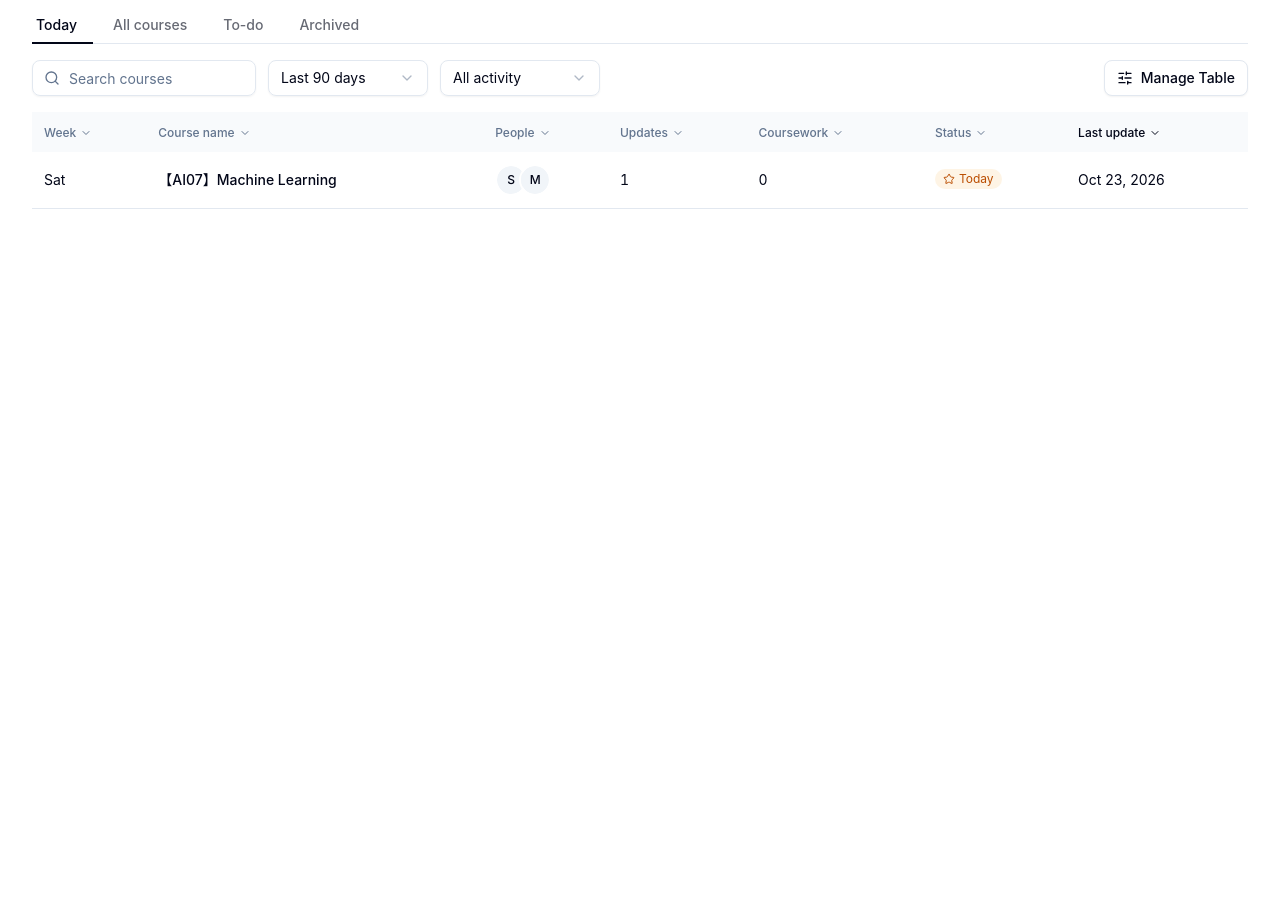
CoursesListPage › opens the details sheet from the title and hides a column from Manage Table
Click the tab "All courses" at (150, 26), box [97,8,203,44]
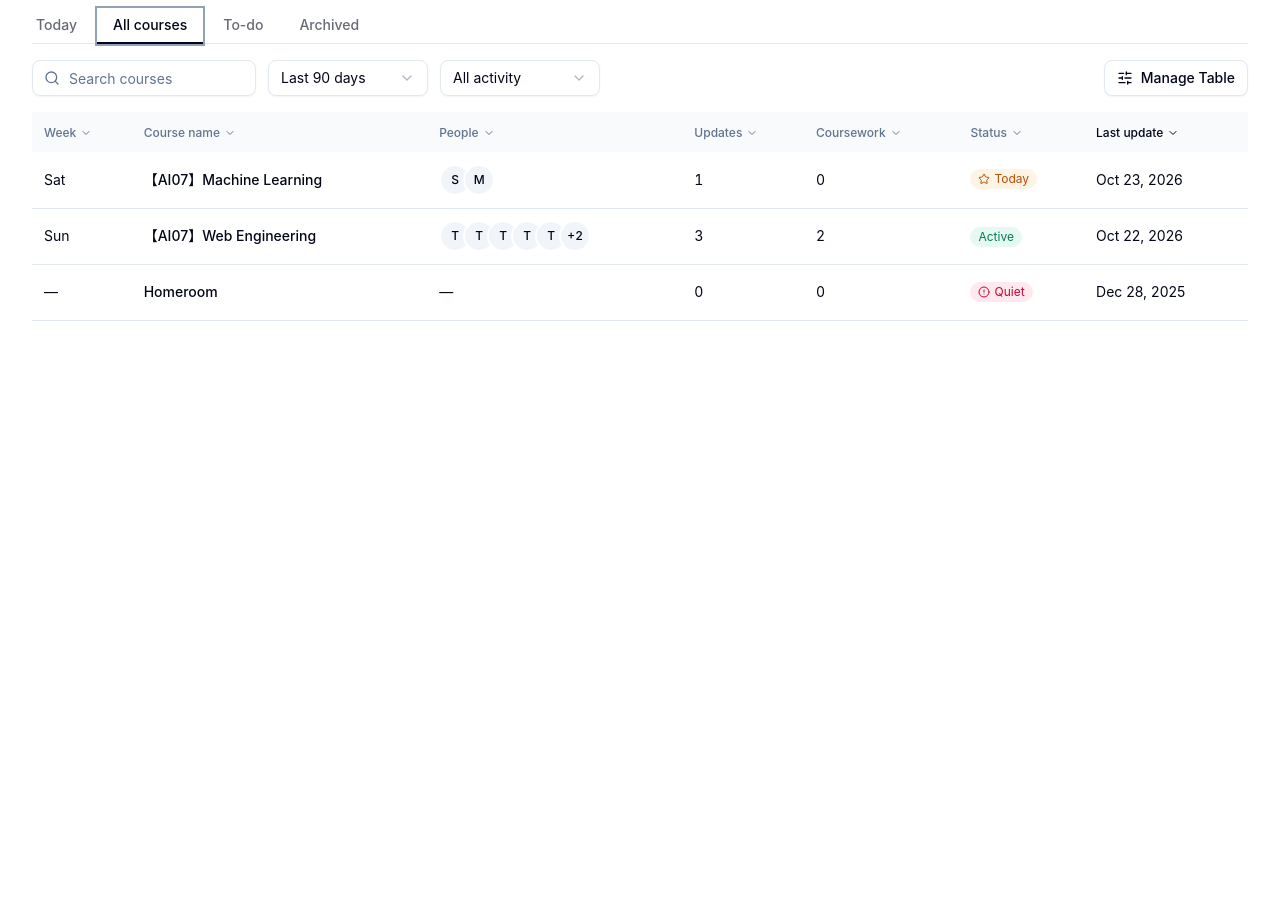
Now the button "【AI07】Web Engineering" is shown, box [144,226,316,246]
Click the button "Manage Table" at (1176, 78), box [1104,60,1248,96]
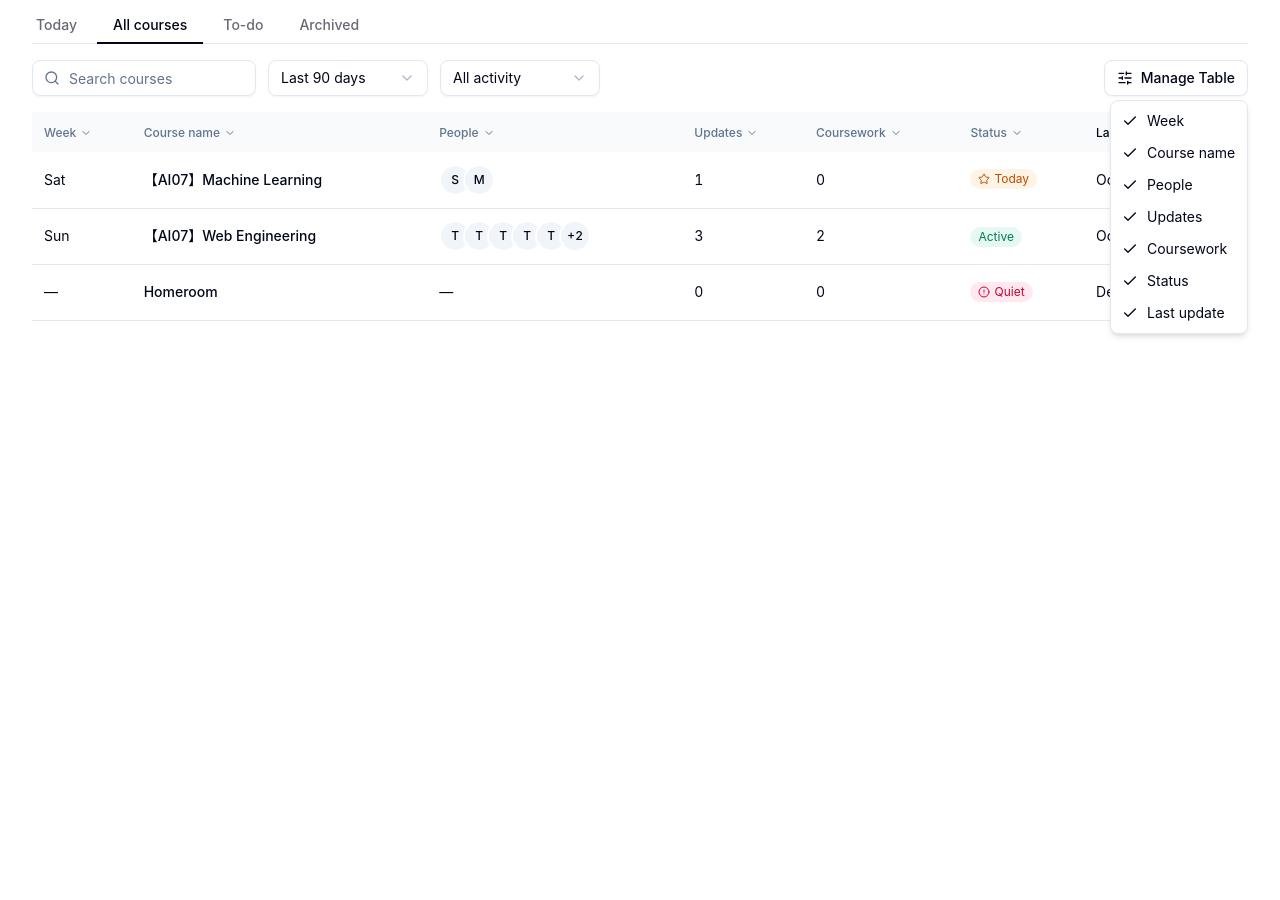
Click the menu item "Week" at (1153, 120), box [1122,112,1184,129]
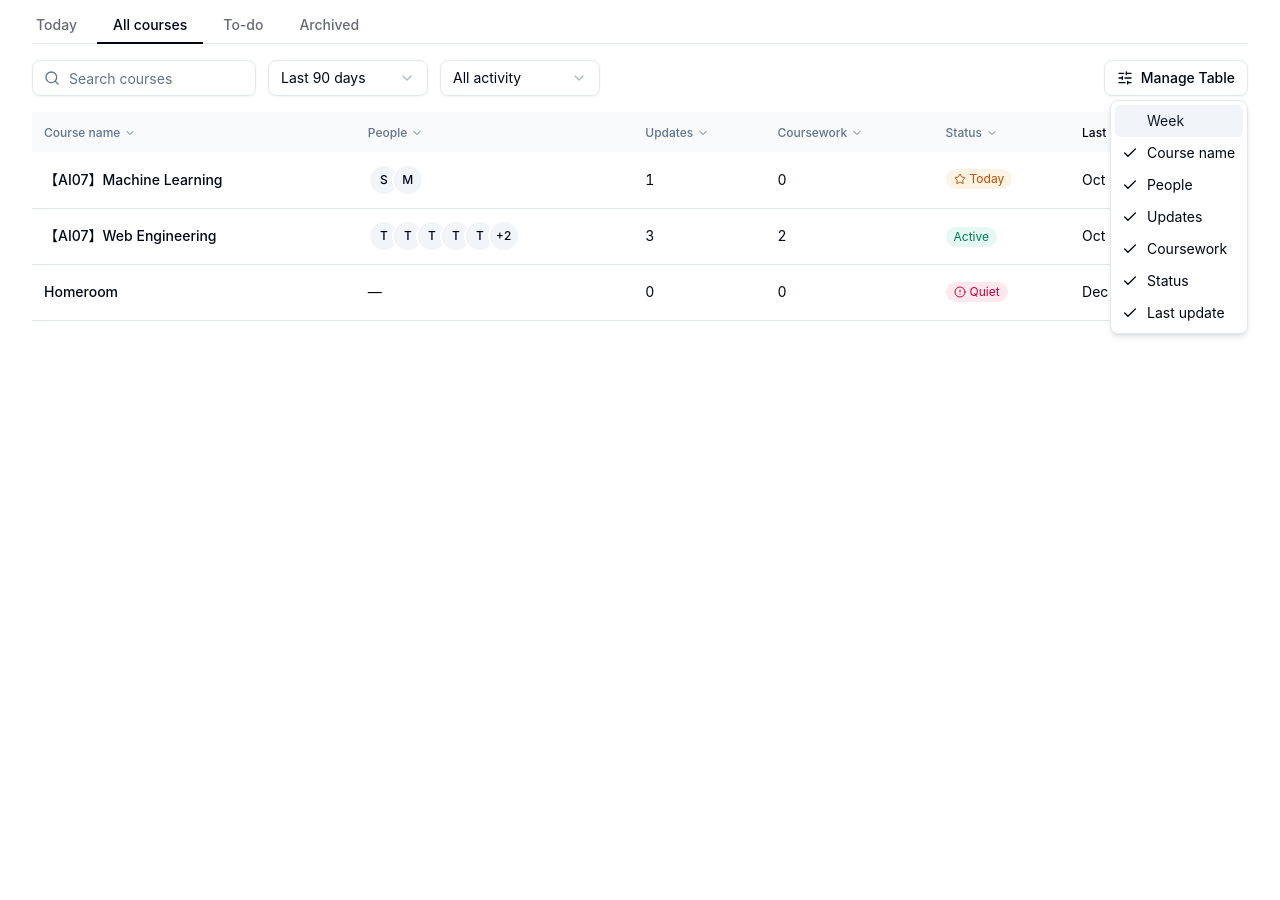
Press Escape
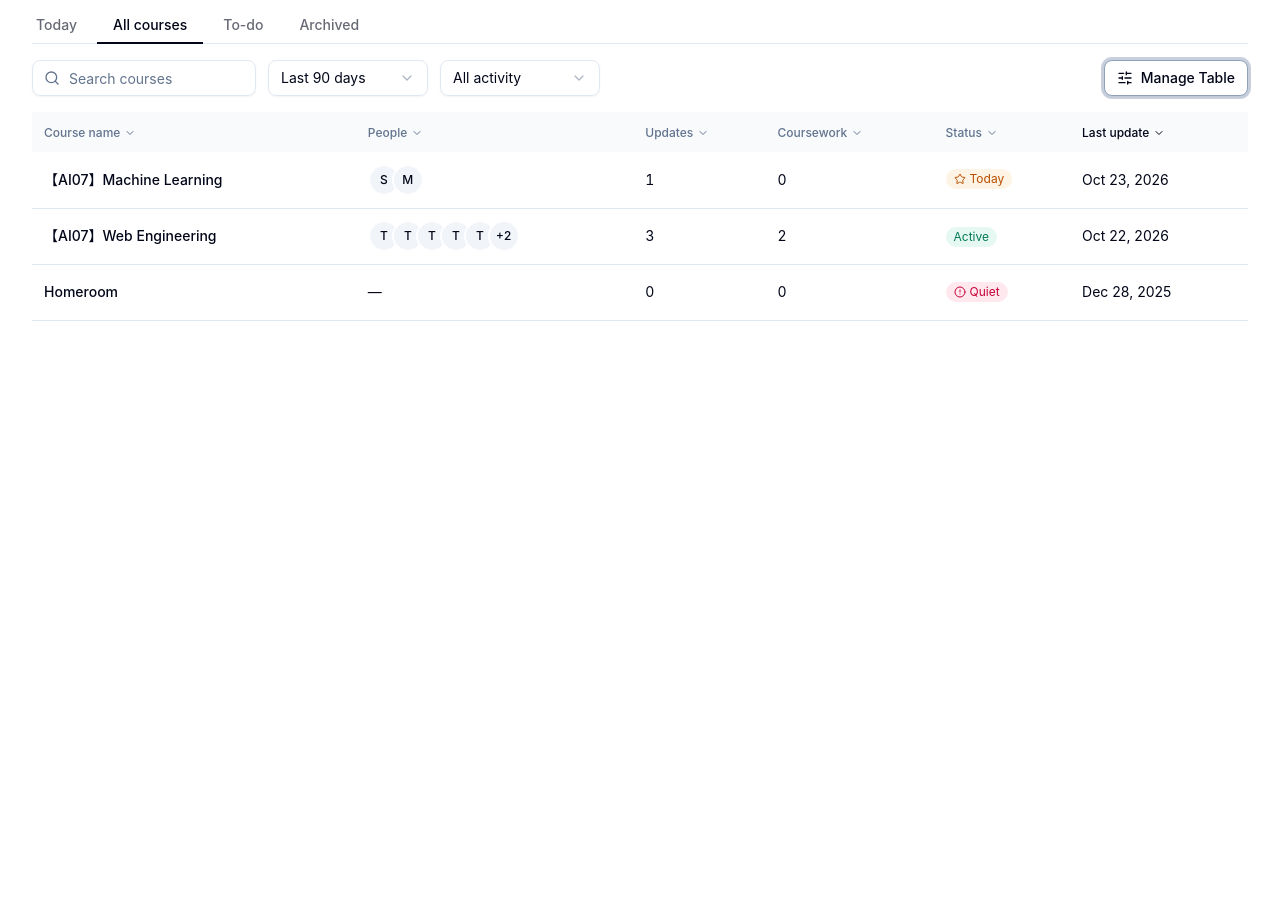
Now the menu item no longer shows "Week"
Click the button "【AI07】Web Engineering" at (130, 236), box [44,226,216,246]
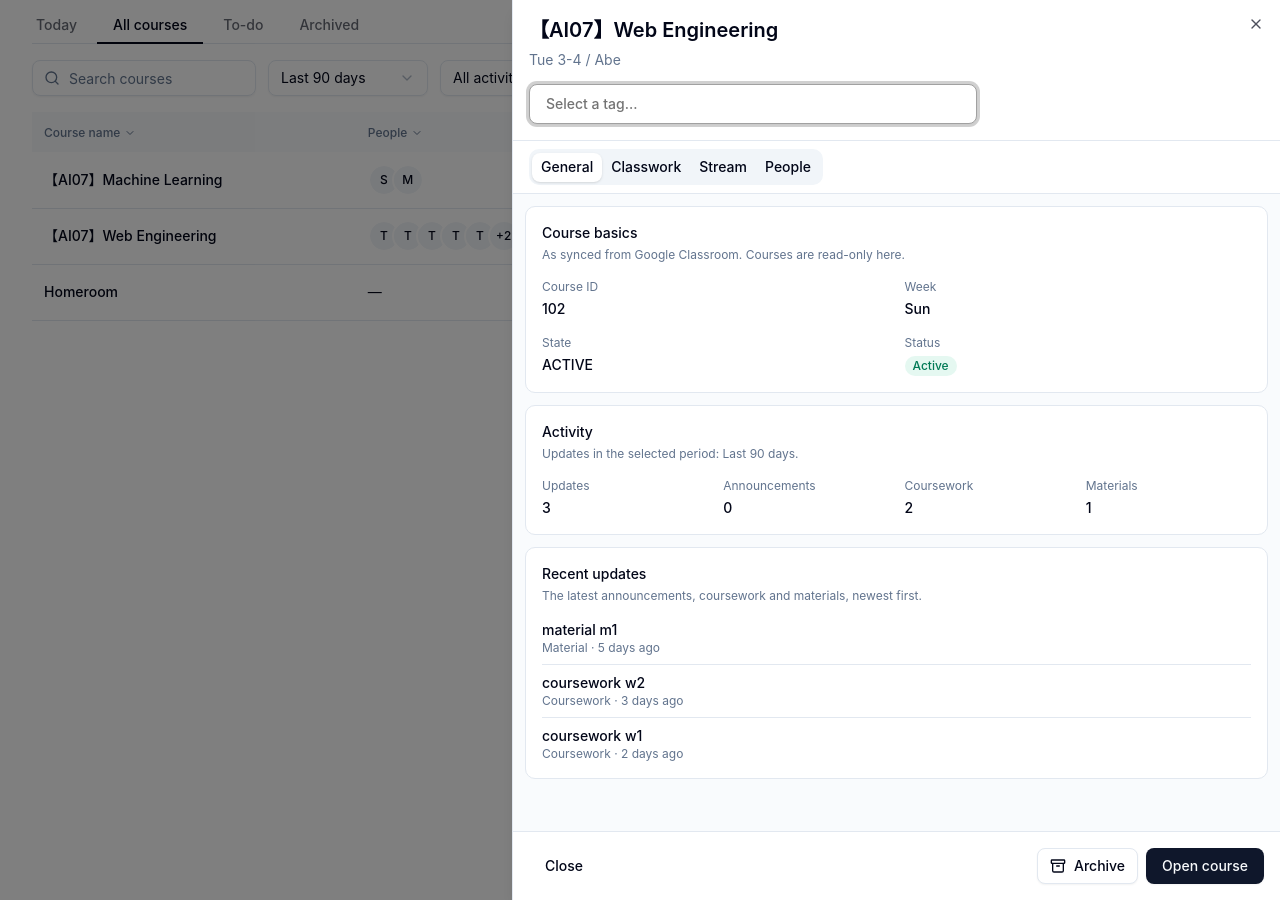
Now the dialog is shown, box [512,0,1279,899]
Now the heading "Course basics" is shown, box [542,224,638,241]
Now the text "coursework w1" is shown, box [542,727,642,744]
Click the tab "Stream" at (723, 167), box [690,152,756,182]
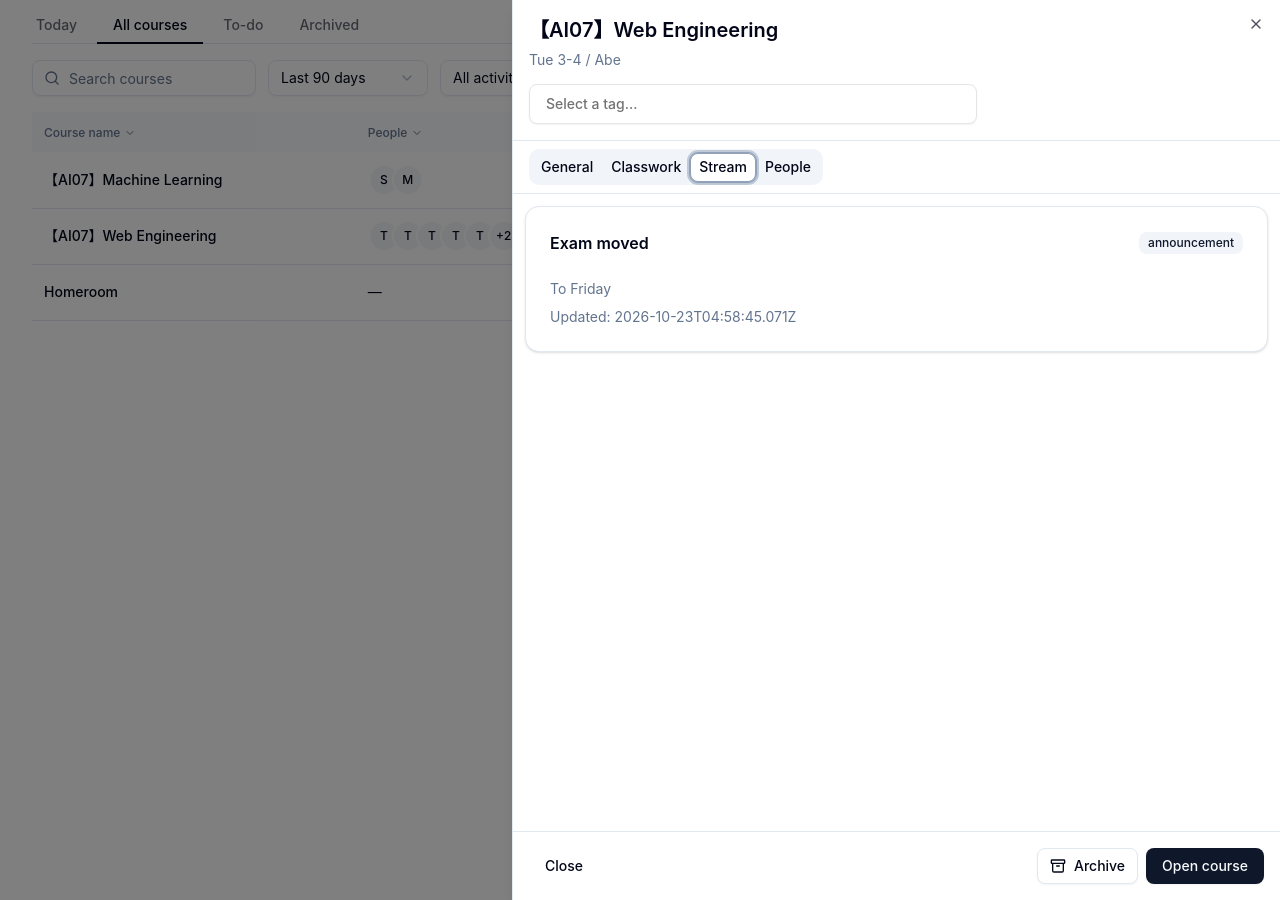
Now the text "Exam moved" is shown, box [550,231,649,255]
Now the text "Course basics" is gone
